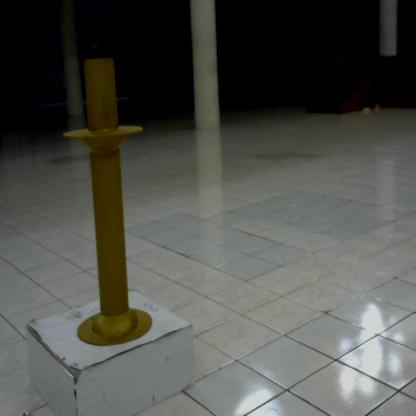pole: (58, 48, 163, 356)
